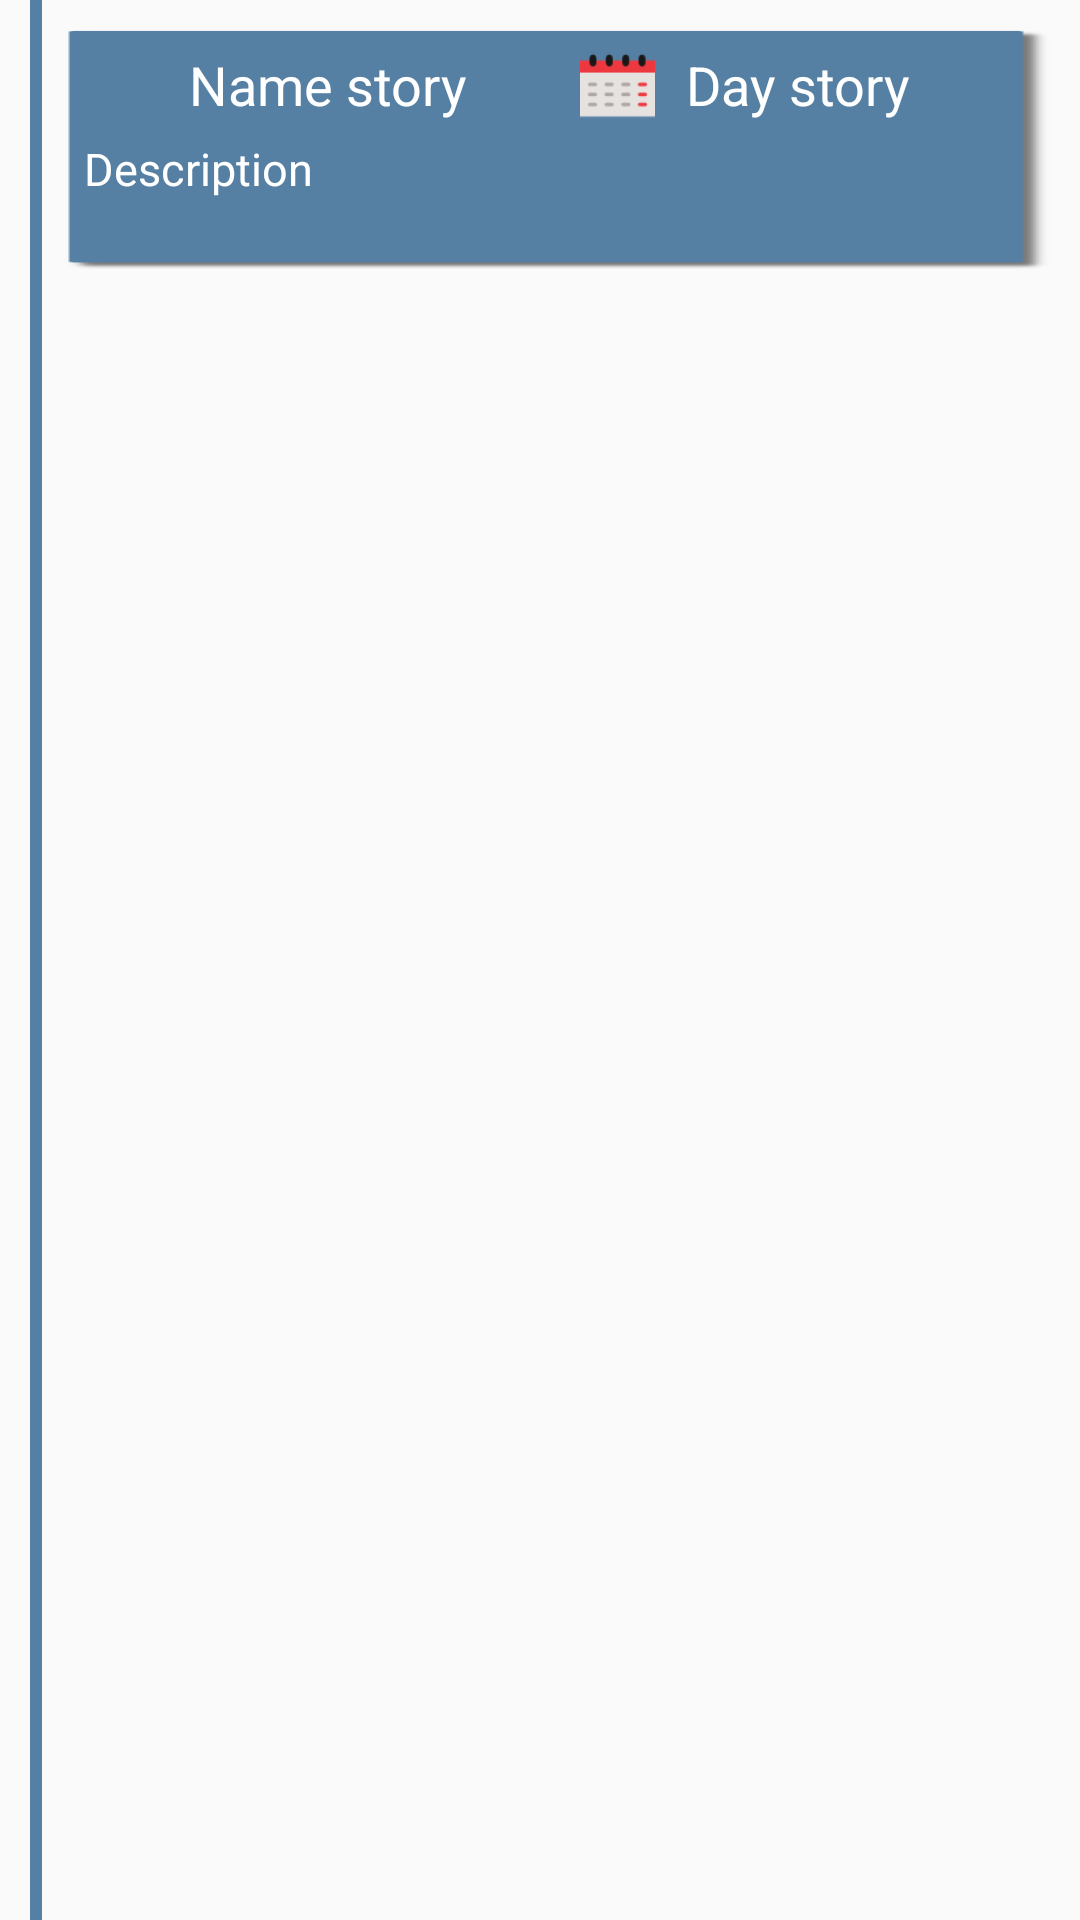

Icon bounding boxes for this 1080w x 1920h phone screenshot, format (x1, y1, x2, y2):
wall calendar: (580, 54, 655, 117)
